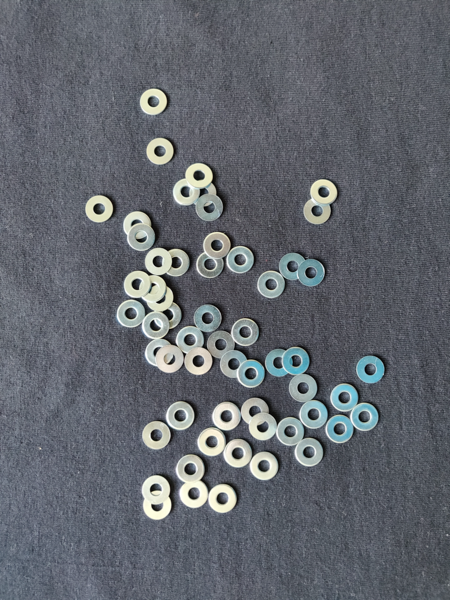circle: (357, 351, 388, 385), (207, 483, 239, 515), (256, 269, 288, 300), (166, 401, 197, 433), (279, 250, 309, 283), (289, 372, 319, 405), (328, 383, 359, 414), (85, 193, 117, 223), (350, 401, 380, 433), (122, 209, 153, 239), (293, 438, 324, 468), (275, 417, 305, 448), (248, 451, 278, 482), (240, 398, 271, 428), (211, 401, 242, 431), (197, 426, 227, 457), (179, 478, 209, 509), (141, 475, 171, 506), (141, 421, 171, 452), (201, 232, 233, 261), (174, 455, 206, 484), (139, 86, 169, 116), (122, 270, 152, 300), (144, 138, 175, 167), (299, 401, 330, 430), (206, 331, 237, 360), (194, 305, 223, 336), (145, 338, 174, 369), (195, 194, 227, 222), (299, 257, 325, 291), (226, 246, 255, 276), (162, 248, 192, 277), (282, 347, 311, 377), (326, 414, 356, 443), (223, 438, 252, 468), (303, 198, 334, 226), (238, 360, 267, 389), (177, 326, 206, 355), (184, 347, 213, 376), (142, 493, 171, 522), (188, 178, 218, 206), (127, 223, 157, 251), (265, 348, 293, 378), (140, 312, 170, 340), (196, 251, 225, 279), (145, 246, 173, 275), (249, 413, 278, 441), (232, 319, 260, 348), (220, 349, 248, 378), (155, 300, 183, 329), (139, 275, 167, 304), (312, 177, 340, 205), (156, 346, 184, 374), (117, 301, 145, 329), (147, 285, 175, 313), (174, 178, 200, 208), (185, 163, 214, 188)
